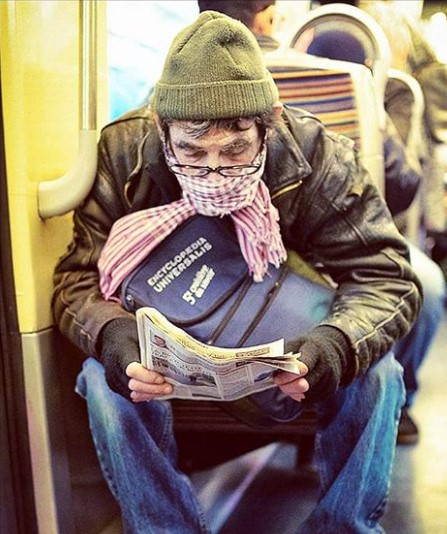face_with_mask: (156, 82, 274, 220)
